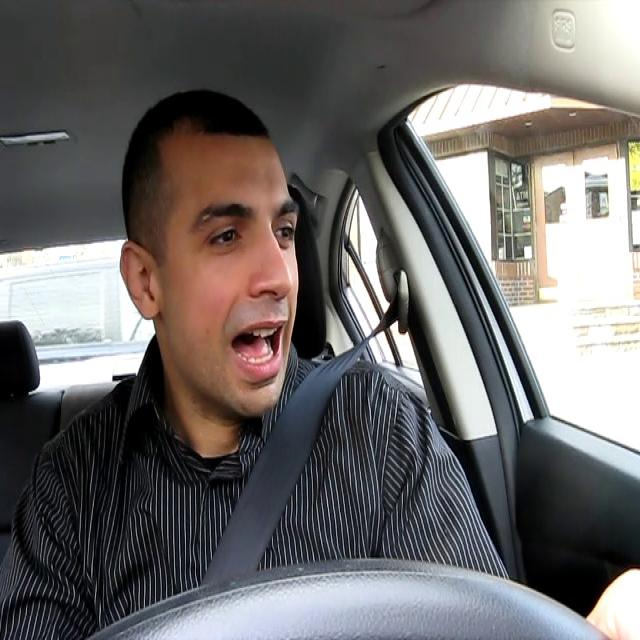open: (226, 314, 290, 386)
